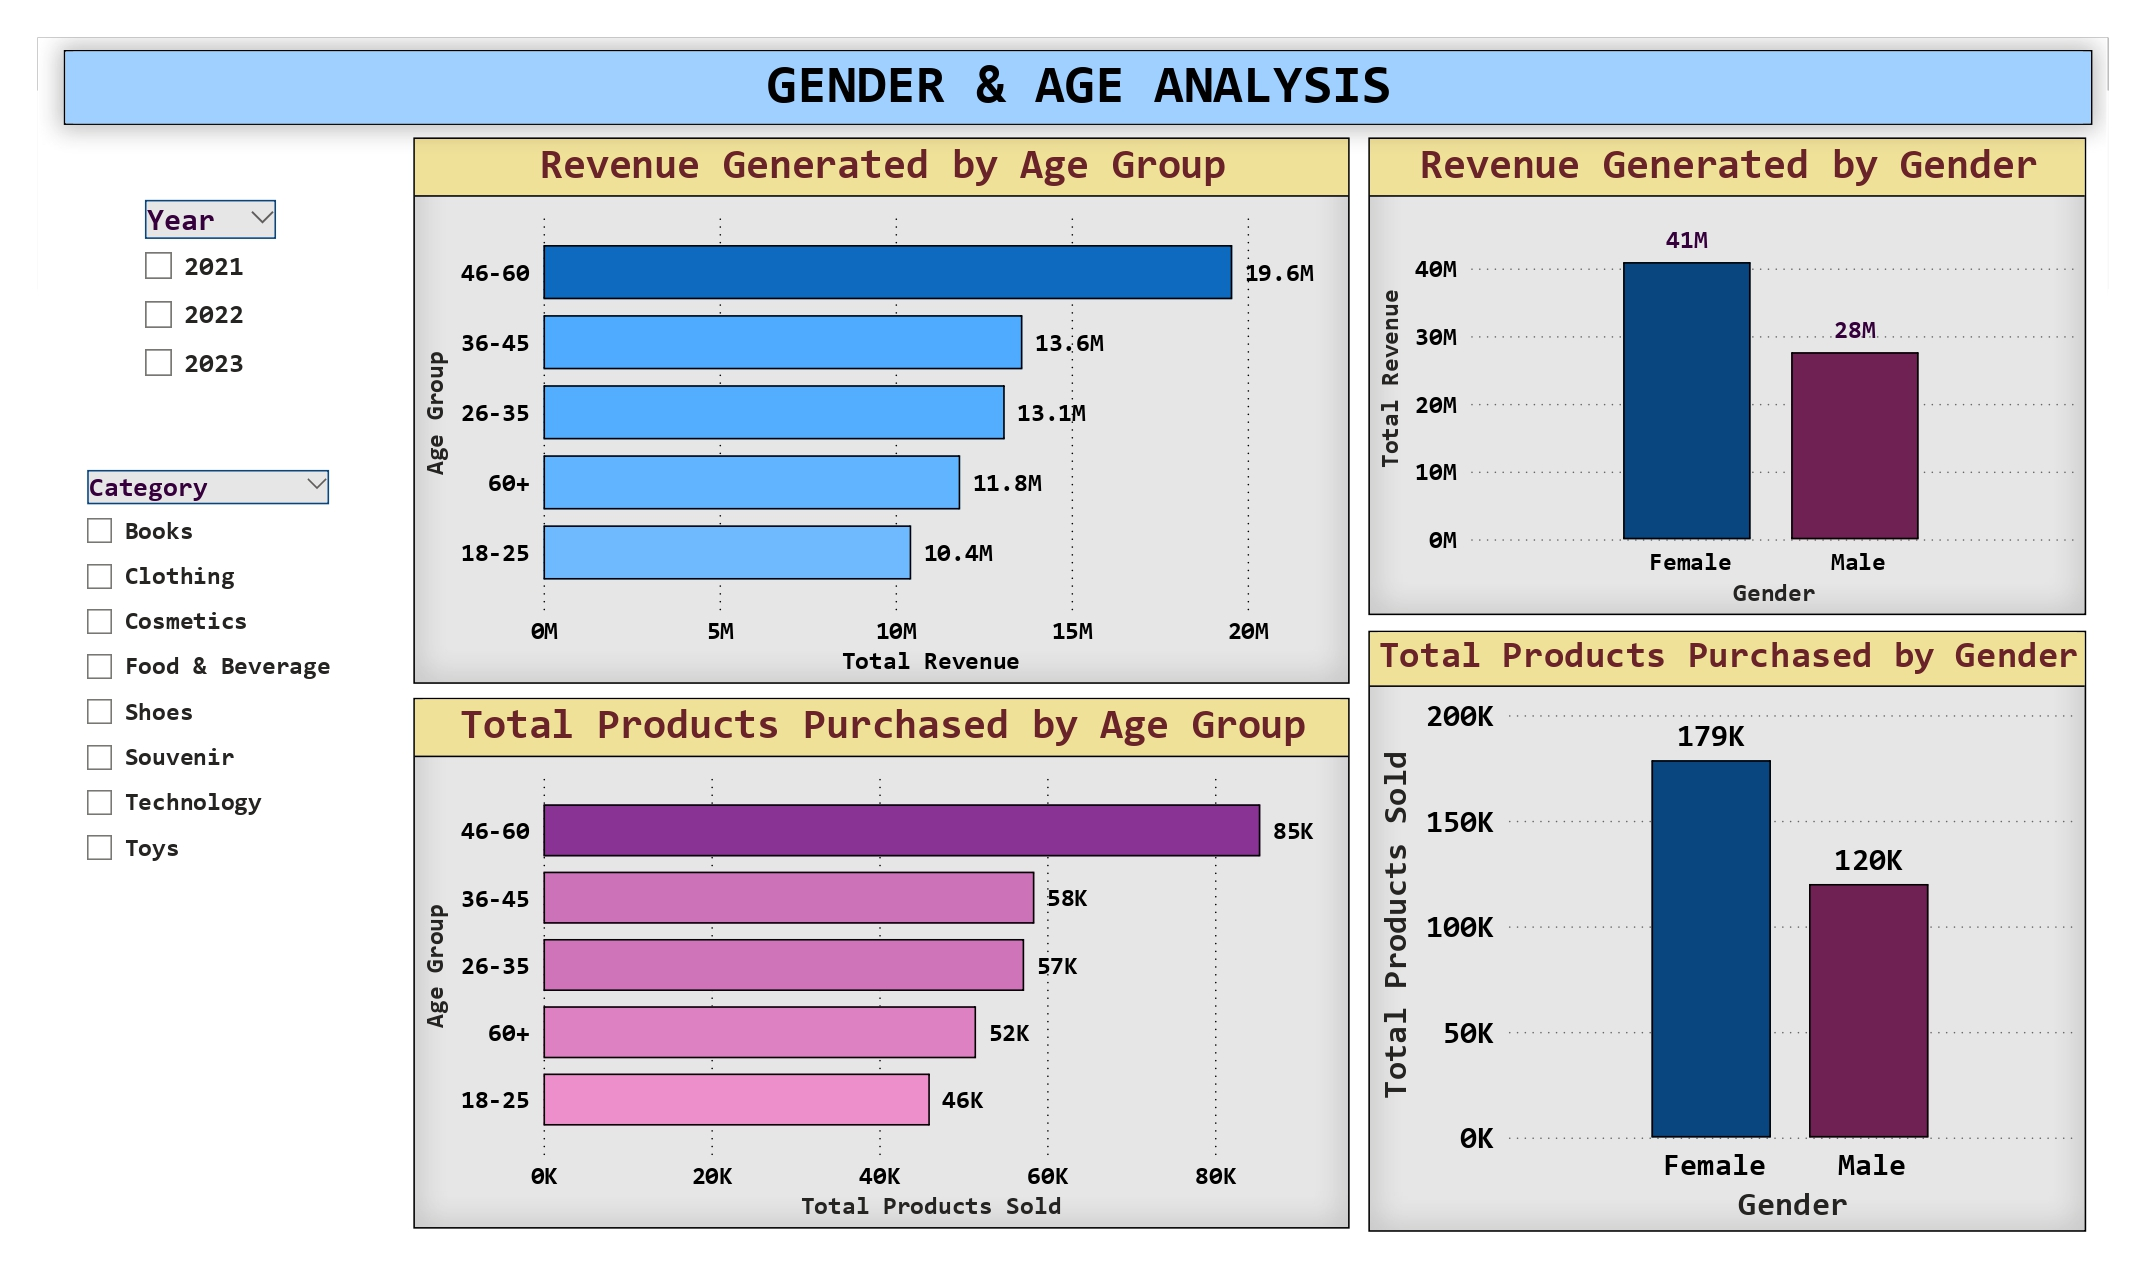

Layout of this report page (visuals, bound fields, positions):
{"tool":"powerbi","page":{"name":"Dashboard_Demographic_Analysis","canvas":[1325,775],"ordinal":12},"visuals":[{"type":"slicer","fields":{"Values":["customer.invoice_date.Variation.Date Hierarchy.Year"]},"box":[55.3,98.7,109.2,140.8],"z":0},{"type":"slicer","fields":{"Values":["customer.category"]},"box":[18.4,272.5,180.3,300.1],"z":1000},{"type":"clusteredColumnChart","title":"Revenue Generated by Gender","fields":{"Category":["customer.gender"],"Y":["Sum(customer.revenue)"]},"box":[851.6,64.5,460.7,305.4],"z":2000},{"type":"clusteredColumnChart","title":"Total Products Purchased by Gender","fields":{"Category":["customer.gender"],"Y":["Sum(customer.quantity)"]},"box":[851.6,380.4,460.7,384.3],"z":3000},{"type":"clusteredBarChart","title":"Total Products Purchased by Age Group","fields":{"Category":["customer.age_group"],"Y":["Sum(customer.quantity)"]},"box":[239.6,422.5,600.2,340],"z":4000},{"type":"clusteredBarChart","title":"Revenue Generated by Age Group","fields":{"Category":["customer.age_group"],"Y":["Sum(customer.revenue)"]},"box":[239.6,64.5,600.2,350],"z":5000},{"type":"textbox","title":"GENDER & AGE ANALYSIS","box":[15.8,8,1300,48],"z":6000}]}

Visuals, with their boxes on the page's 1325x775 design canvas (x1, y1, x2, y2). These are canvas units, not pixel positions in the 2146x1286 screenshot, which may show the page scaled, cropped or inside an application window:
slicer - customer.invoice_date.Variation.Date Hierarchy.Year: <bbox>55, 99, 164, 240</bbox>
slicer - customer.category: <bbox>18, 272, 199, 573</bbox>
"Revenue Generated by Gender" clusteredColumnChart: <bbox>852, 64, 1312, 370</bbox>
"Total Products Purchased by Gender" clusteredColumnChart: <bbox>852, 380, 1312, 765</bbox>
"Total Products Purchased by Age Group" clusteredBarChart: <bbox>240, 422, 840, 762</bbox>
"Revenue Generated by Age Group" clusteredBarChart: <bbox>240, 64, 840, 414</bbox>
"GENDER & AGE ANALYSIS" textbox: <bbox>16, 8, 1316, 56</bbox>
